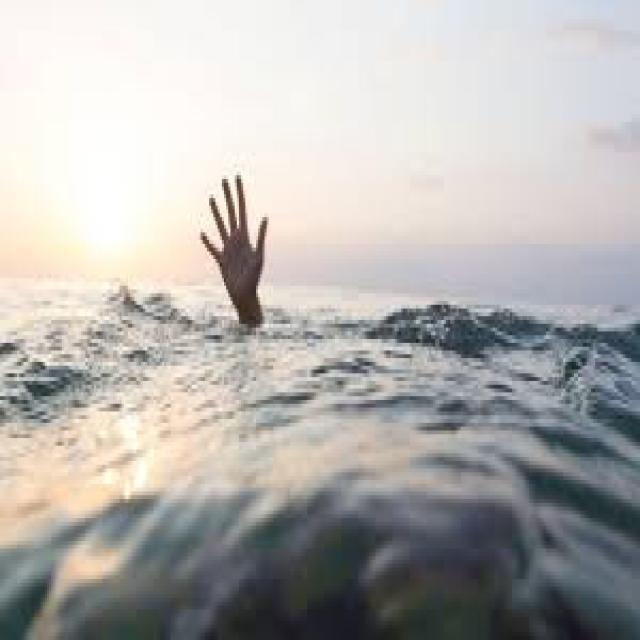swimming: (168, 134, 294, 396)
